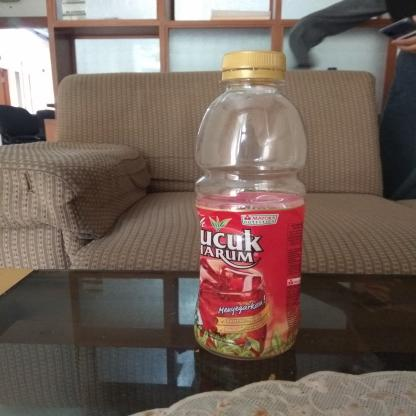bottle: (191, 44, 313, 368)
